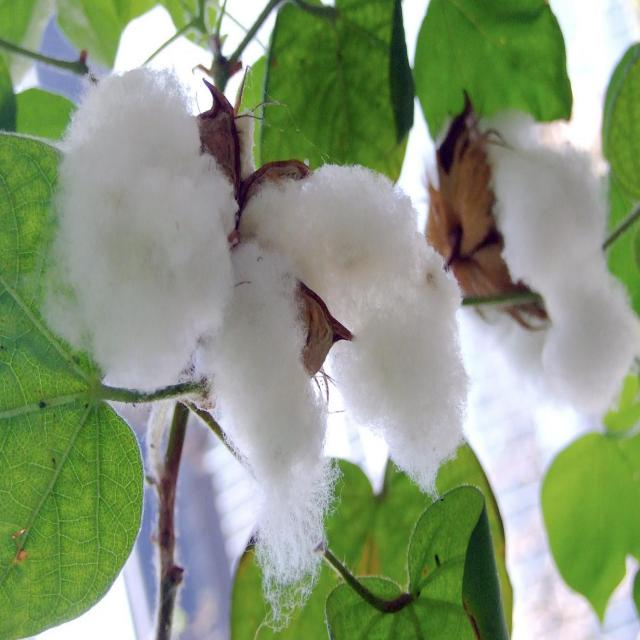Early_blight: (242, 145, 481, 505), (37, 49, 248, 400), (426, 106, 639, 421), (193, 243, 335, 619)
